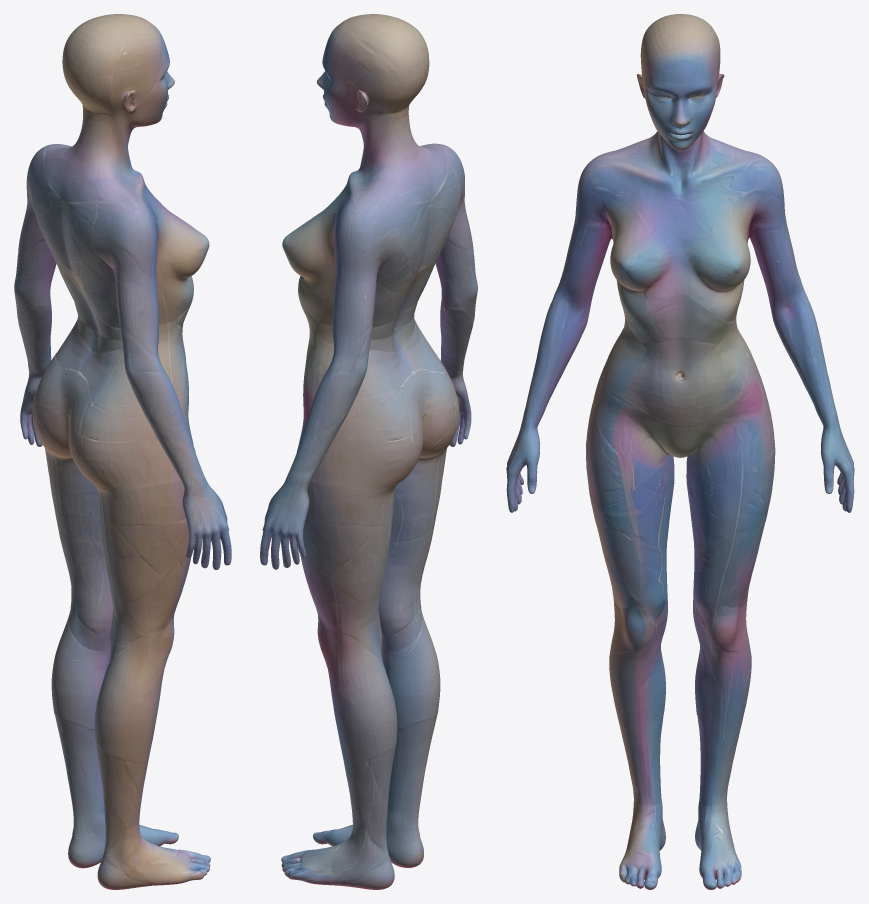
The model's file is Holo_L2.glb.
3 views of the same model, side by side, from view 1: azimuth 30°, elevation 25°; view 2: azimuth 150°, elevation 25°; view 3: azimuth 270°, elevation 25° (orthographic). The views are drawn at different scales.
Parts seen in each view (by area): view 1: tripo_node_7abf9f9e-b274-4280-a441-9d8f32156dae; view 2: tripo_node_7abf9f9e-b274-4280-a441-9d8f32156dae; view 3: tripo_node_7abf9f9e-b274-4280-a441-9d8f32156dae.
Boxes of the visible parts, x1,y1,x2,y2 form: tripo_node_7abf9f9e-b274-4280-a441-9d8f32156dae: (14, 14, 231, 889); tripo_node_7abf9f9e-b274-4280-a441-9d8f32156dae: (260, 14, 477, 889); tripo_node_7abf9f9e-b274-4280-a441-9d8f32156dae: (506, 14, 854, 889).
Bounding box in the file's own units: 0.1684 × 1 × 0.3779.
1 material, 1 textured.
